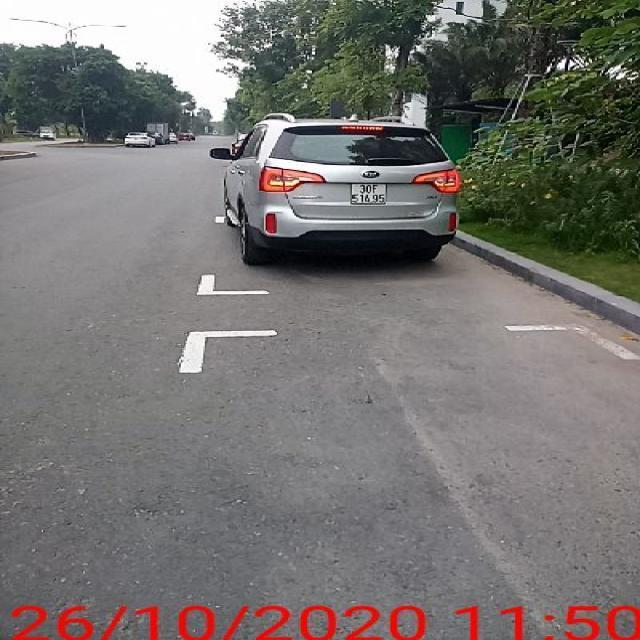bien_so_oto: (350, 182, 388, 205)
